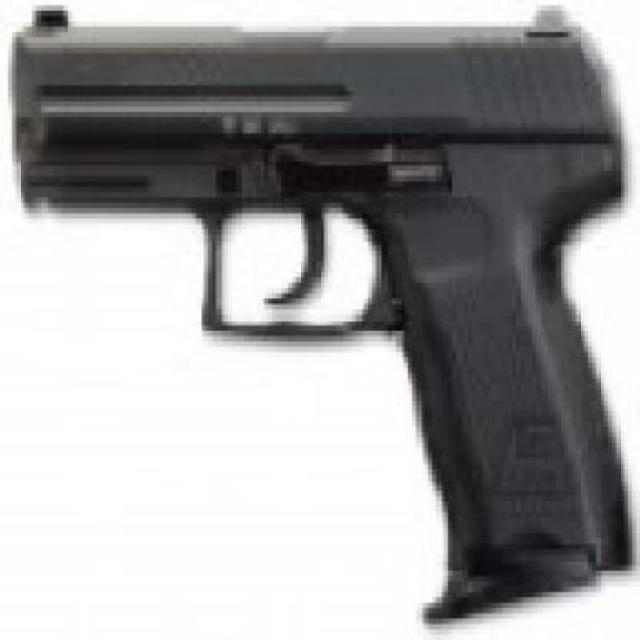gun: (8, 5, 628, 613)
